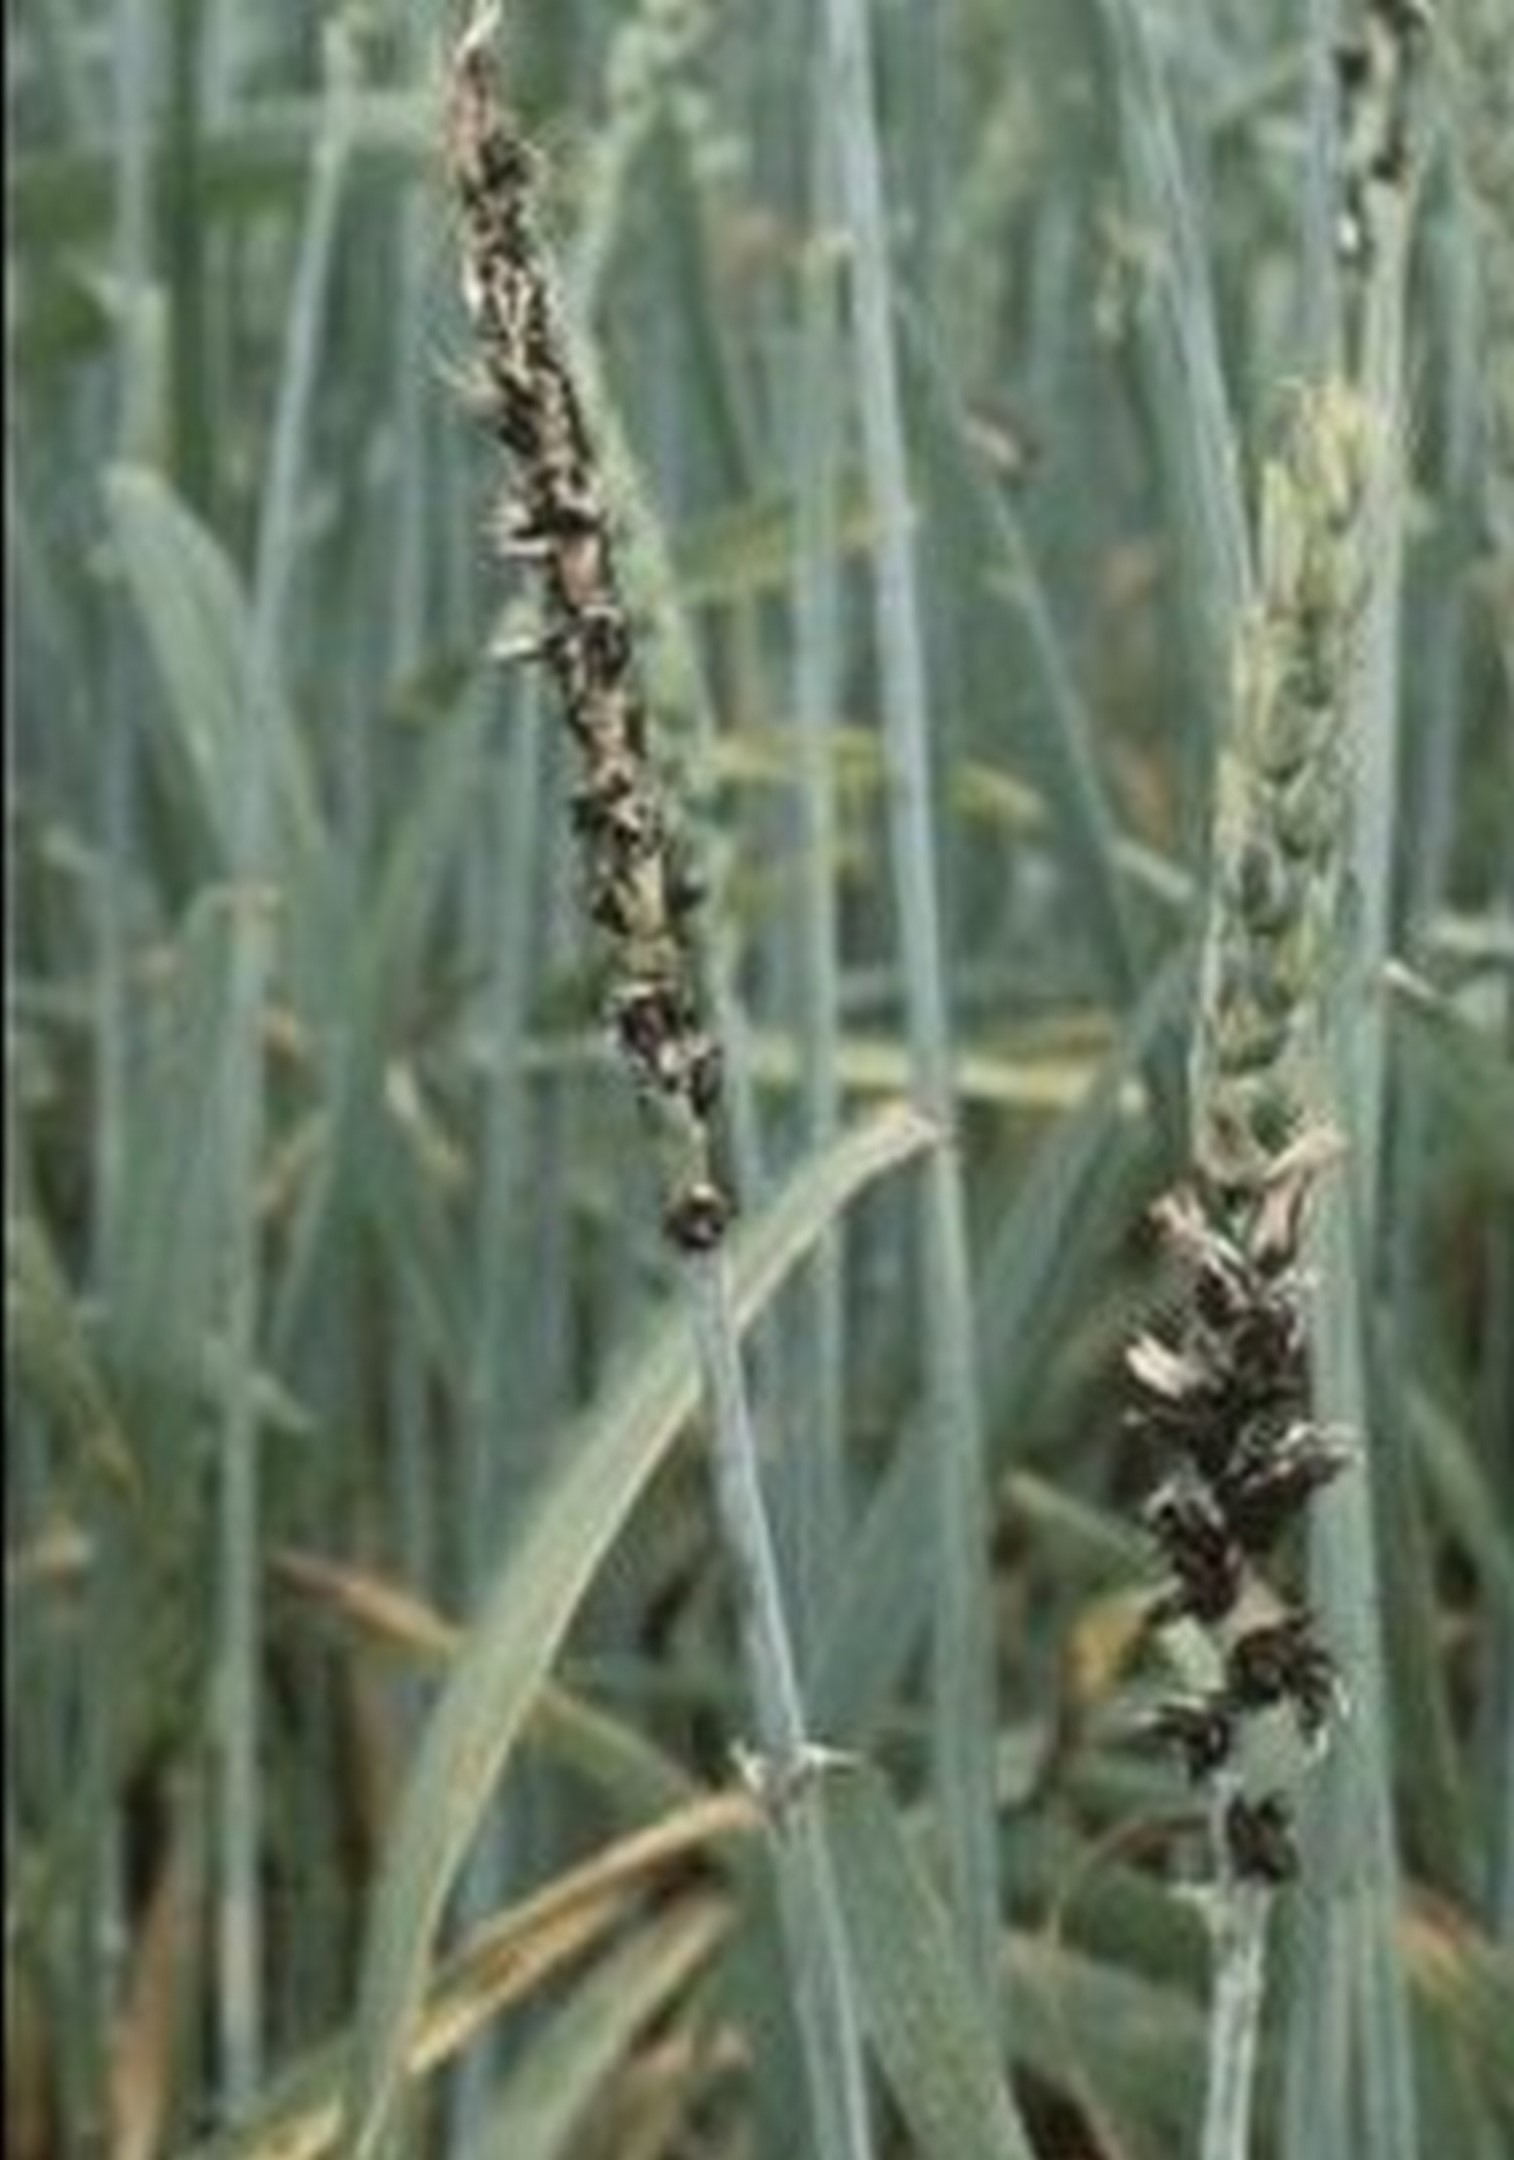Wheat Loose Smut: (409, 131, 791, 1182), (1072, 1223, 1392, 1889)
